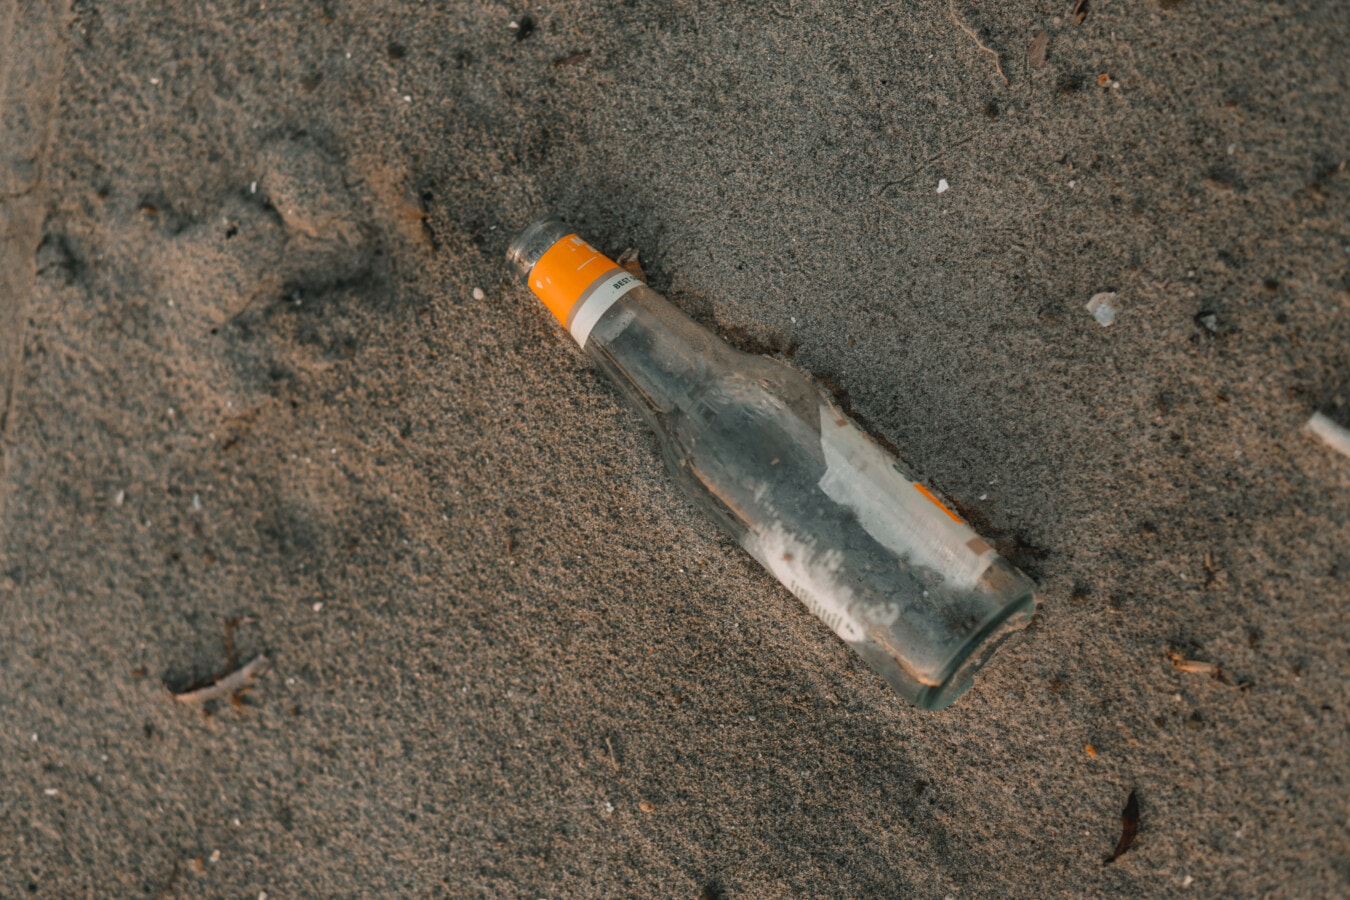glass_bottle: (476, 187, 1061, 725)
